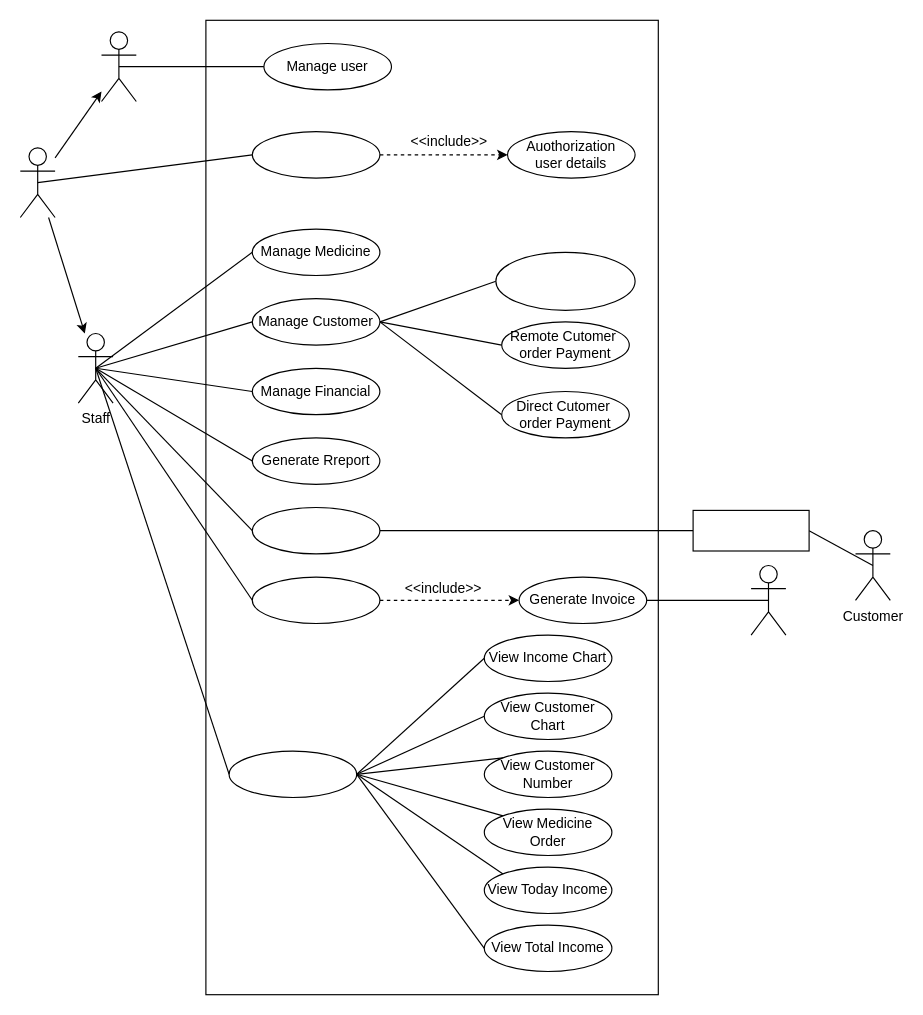
Image size: 923x1015. Some labels were removed from this diagram. Each missing label, with the centre of its shape:
Admin: the point at 118,66
delivery person: the point at 768,599
Email Communication: the point at 315,530
Email Server <<actor>>: the point at 750,530
Login: the point at 315,154
Medicine Distribusion: the point at 315,600
Remote Customer order Manage: the point at 565,280
User: the point at 37,182
View Summery: the point at 292,774
